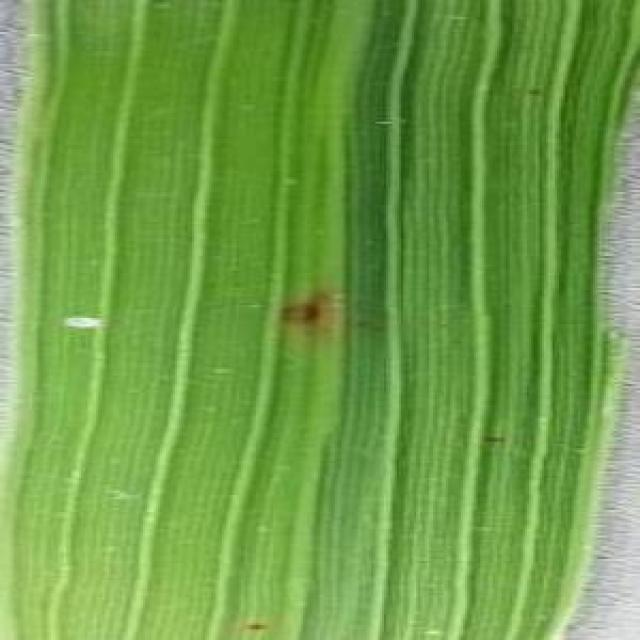Brown_Spot: (281, 286, 333, 338)
